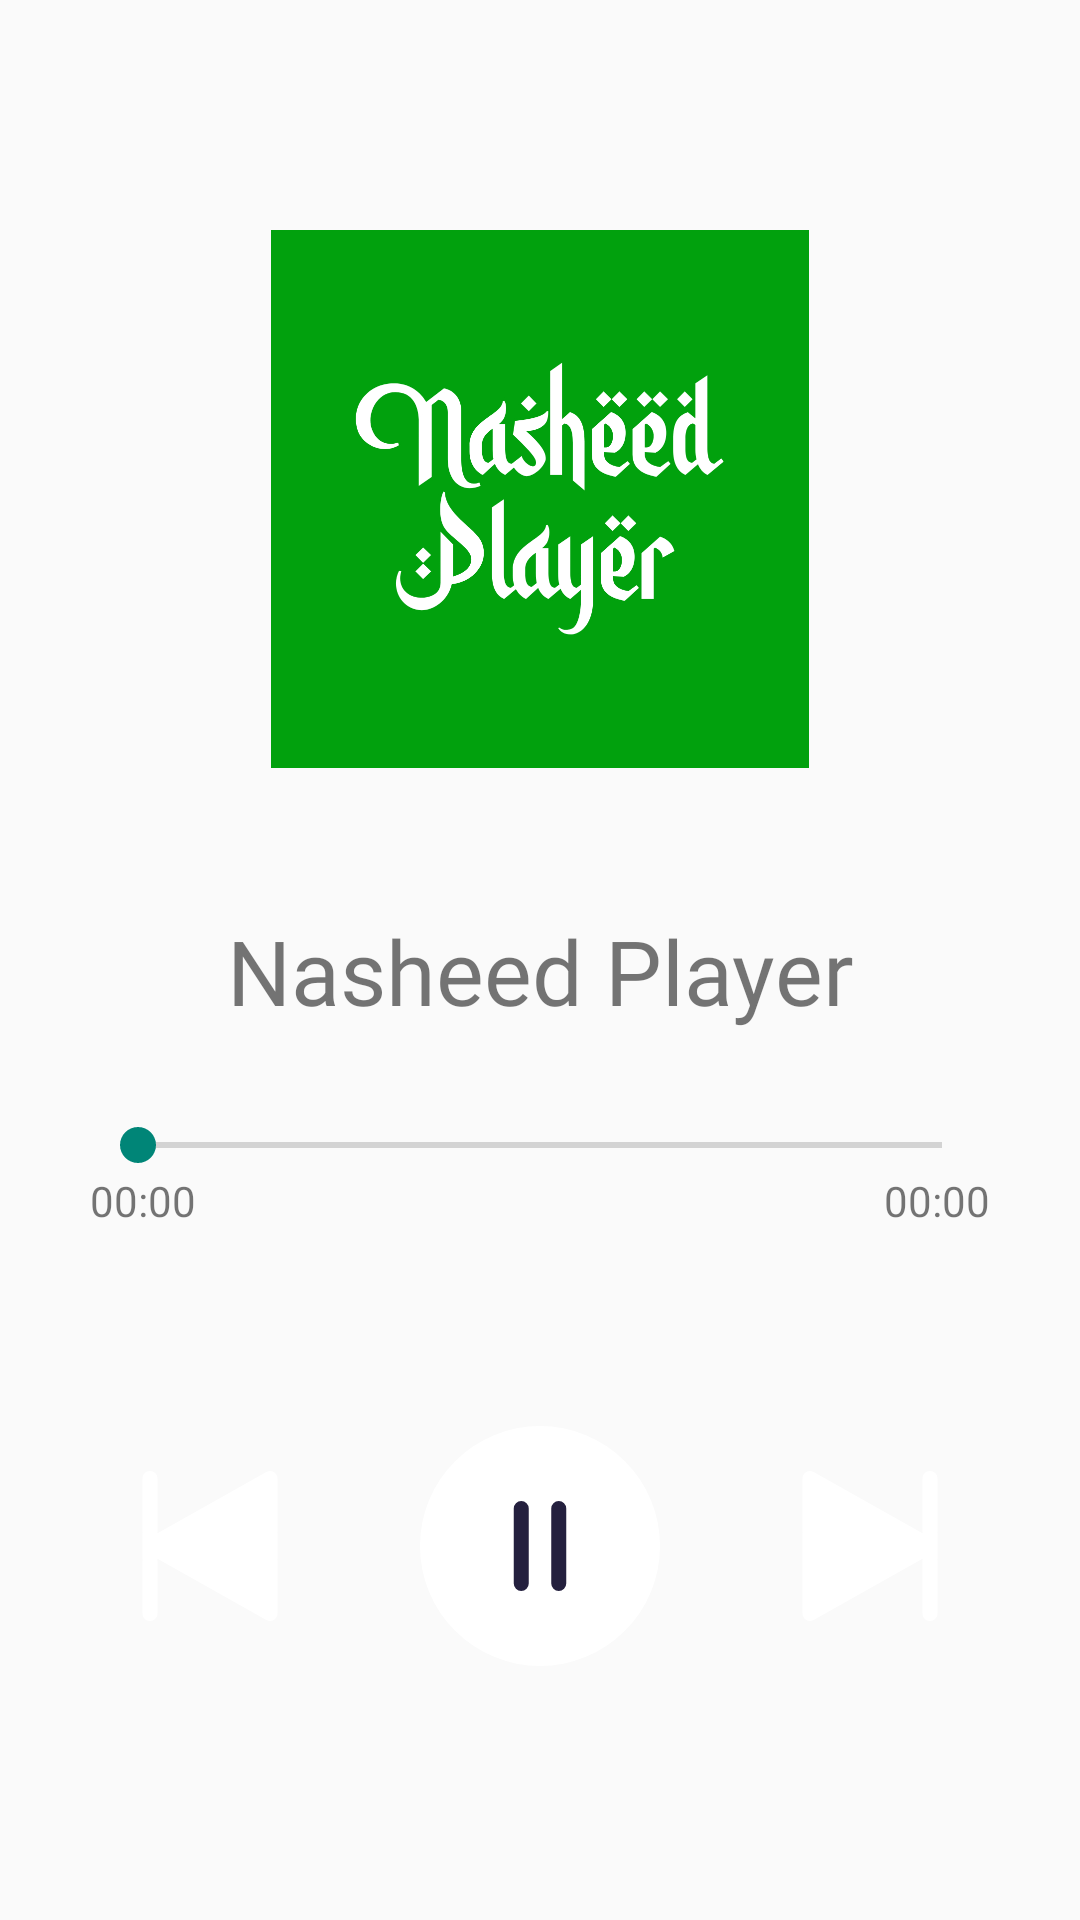

Named icons in this screenshot (1080 × 1920) and their centers, [x,y]:
pause: [540,1546]
